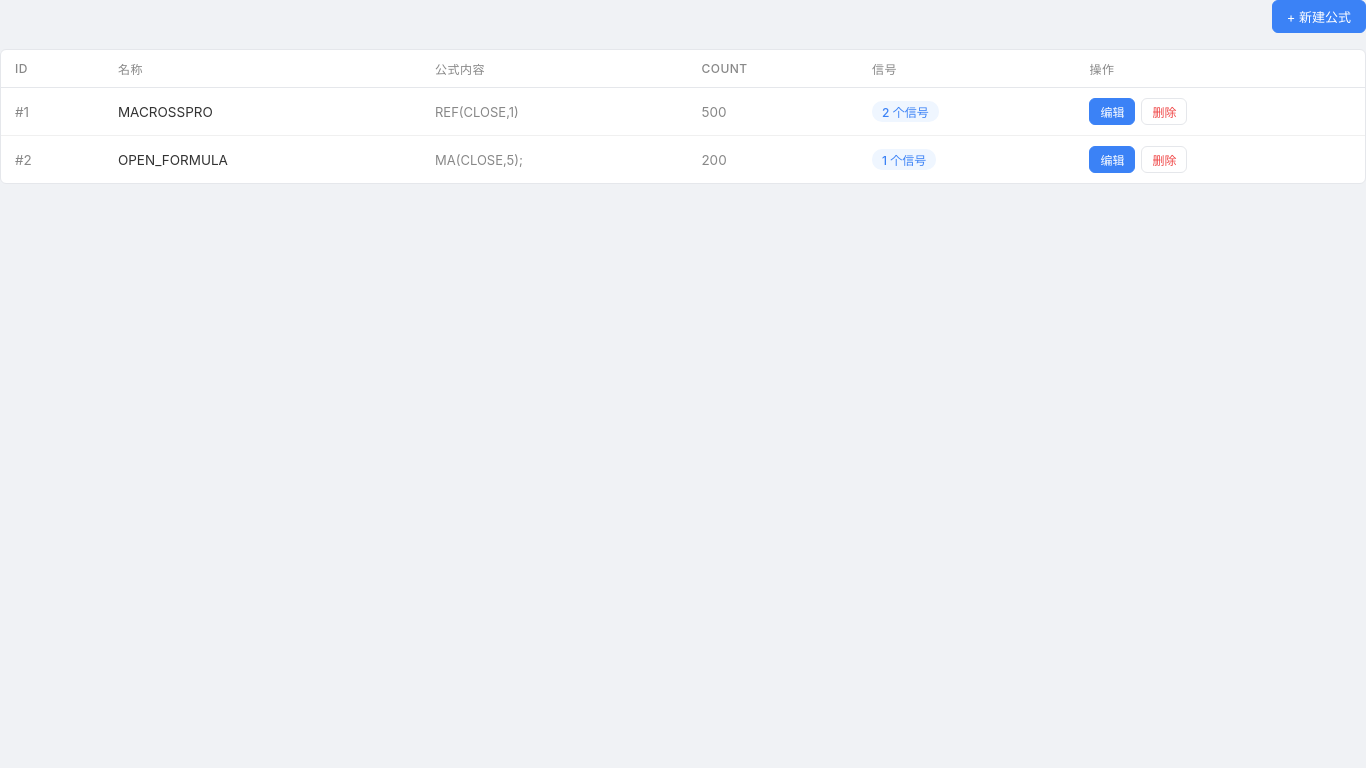
Test case: Formulas.vue › 点[+新建公式]弹出 Modal，含名称/内容/信号行/添加信号按钮
What coordinates should you click on to do the following:
click the button "+ 新建公式"
I would click on:
 (1319, 16)
Its box is [1272,0,1365,33].
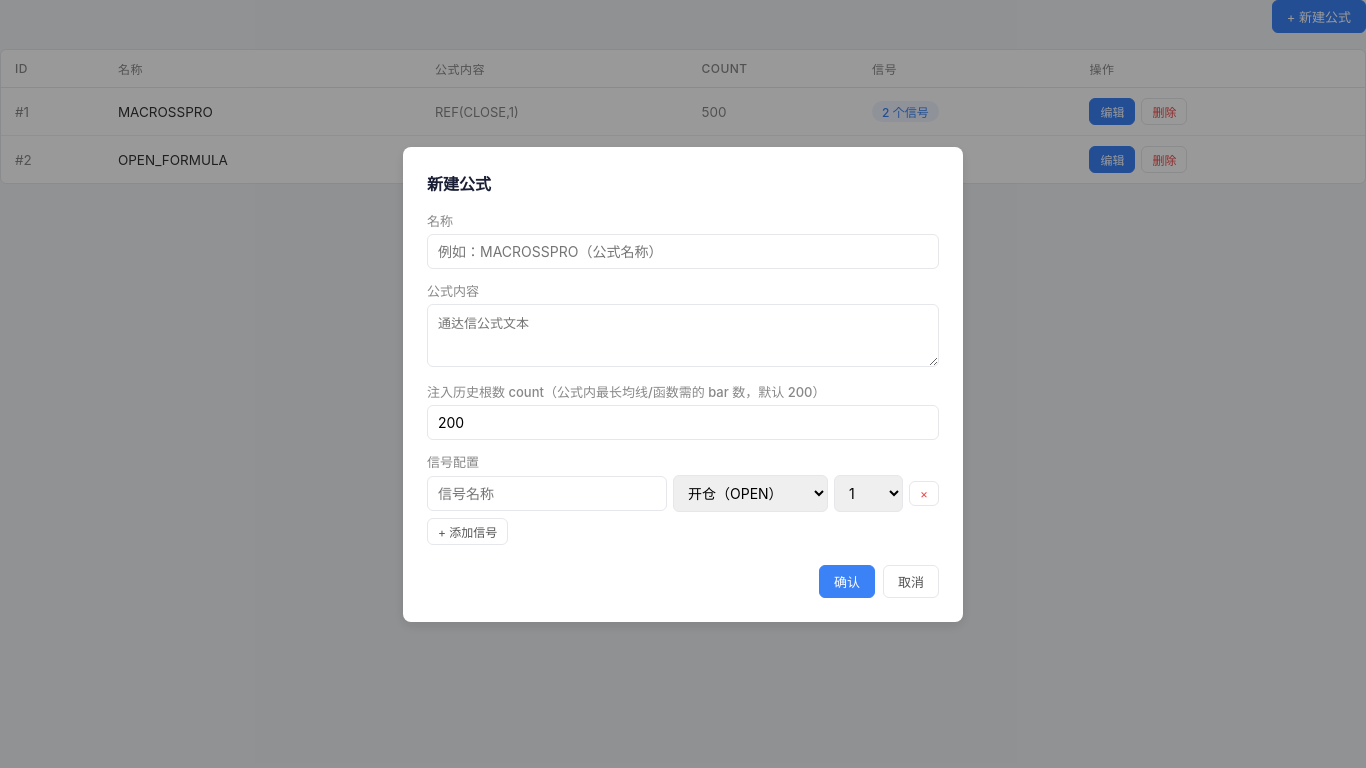
Result: the element with class "modal-overlay" is shown
Result: the field with placeholder "例如：MACROSSPRO（公式名称）" is shown at [427,234,939,268]
Result: the text box with placeholder "通达信公式文本" is shown at [427,304,939,366]
